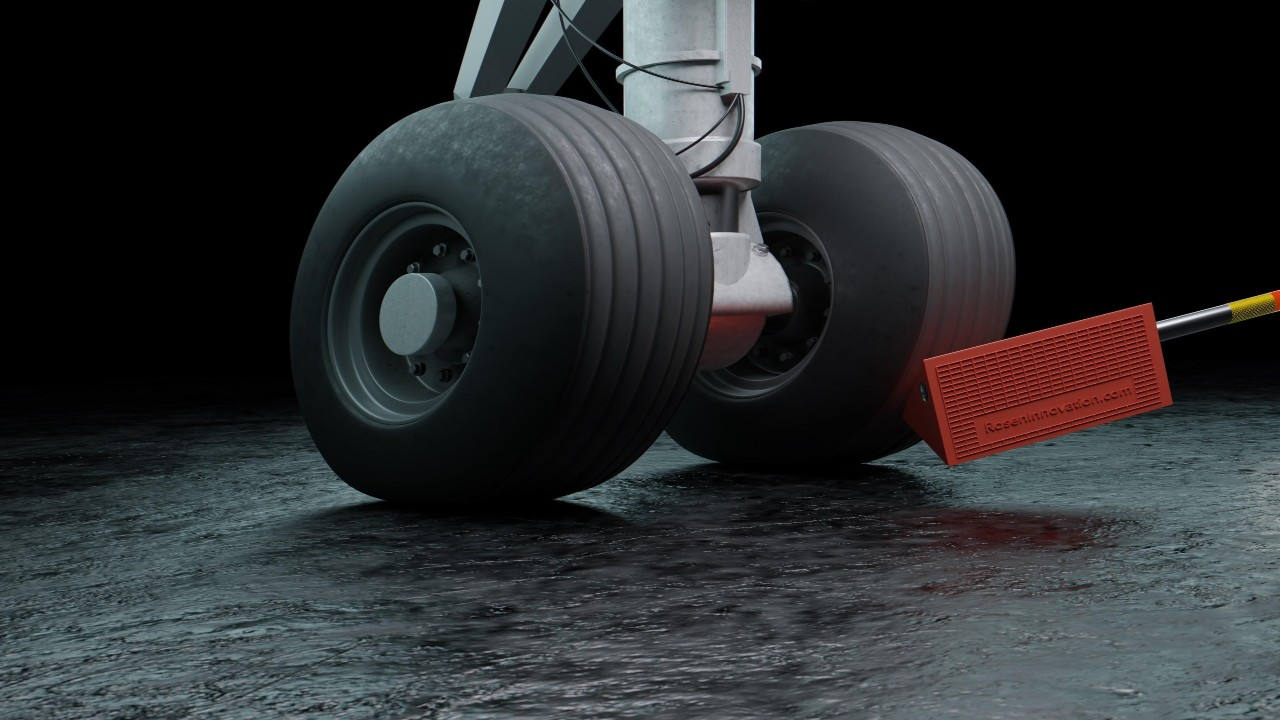chock: (884, 298, 1197, 471)
wheel: (257, 88, 745, 517), (642, 114, 1045, 476)
